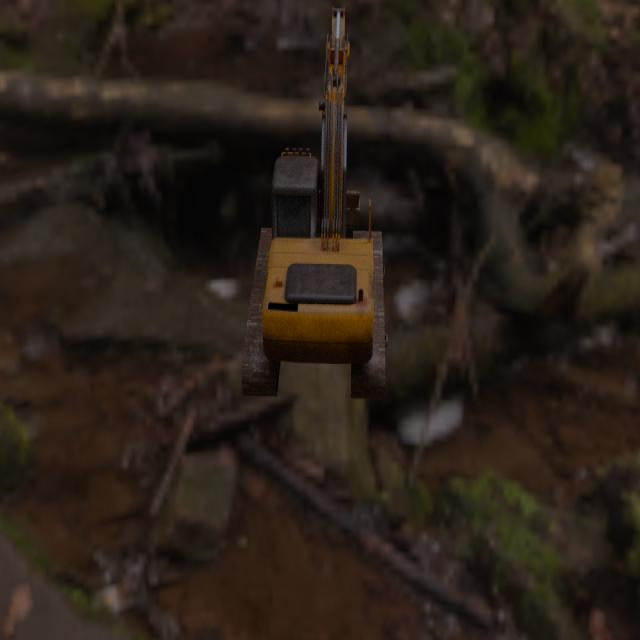excavator: (241, 5, 388, 400)
